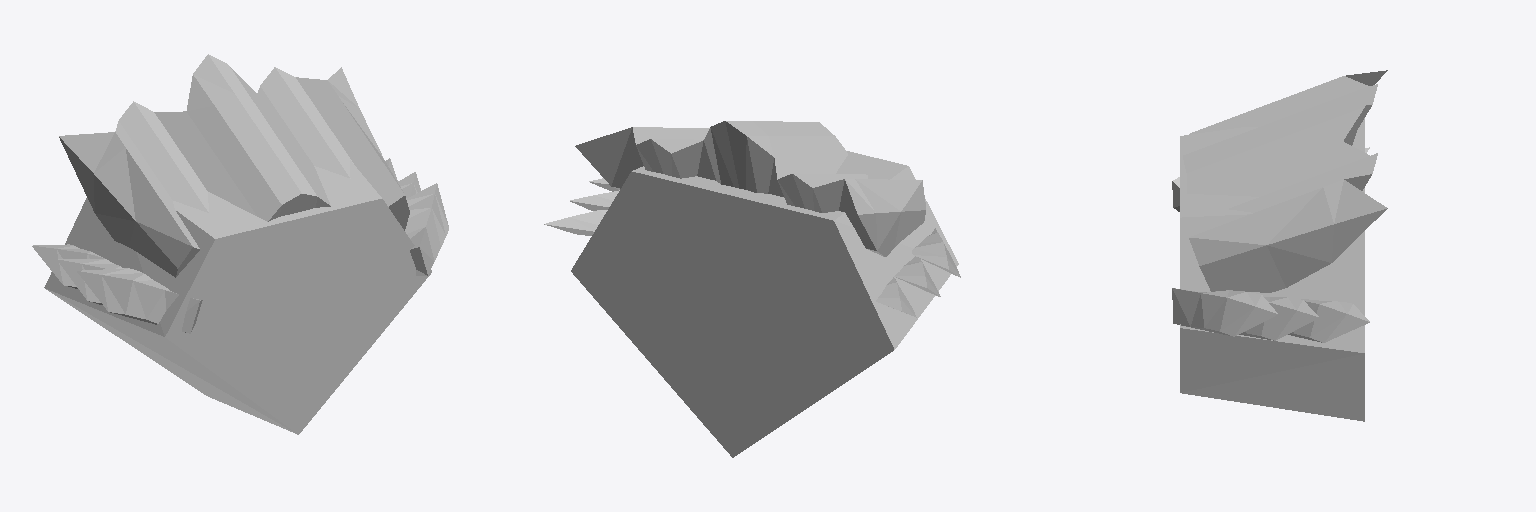
File: Tail3.obj
The picture shows the model from 3 angles: view 1: azimuth 30°, elevation 25°; view 2: azimuth 150°, elevation 25°; view 3: azimuth 270°, elevation 25°; orthographic projection.
Visible parts, largest first — view 1: 立方体.021; view 2: 立方体.021; view 3: 立方体.021.
Boxes of the visible parts, <box> form: 立方体.021: <box>32,54,448,434</box>; 立方体.021: <box>544,121,960,457</box>; 立方体.021: <box>1172,70,1387,421</box>.
Size of the model in its own units: 1.43 by 1.28 by 0.7392.